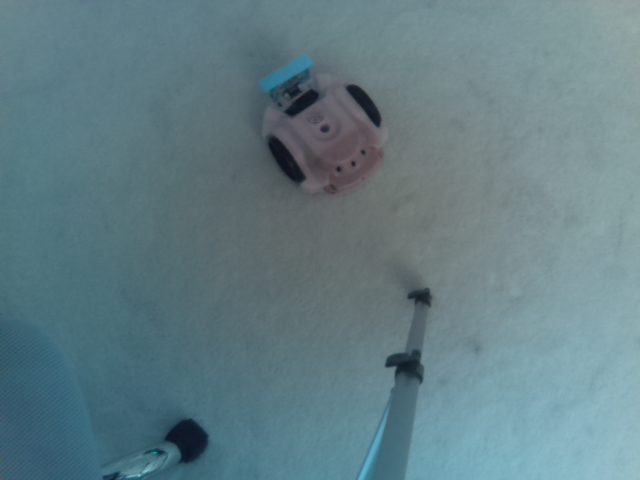board: (254, 49, 317, 106)
chassis: (253, 37, 389, 204)
